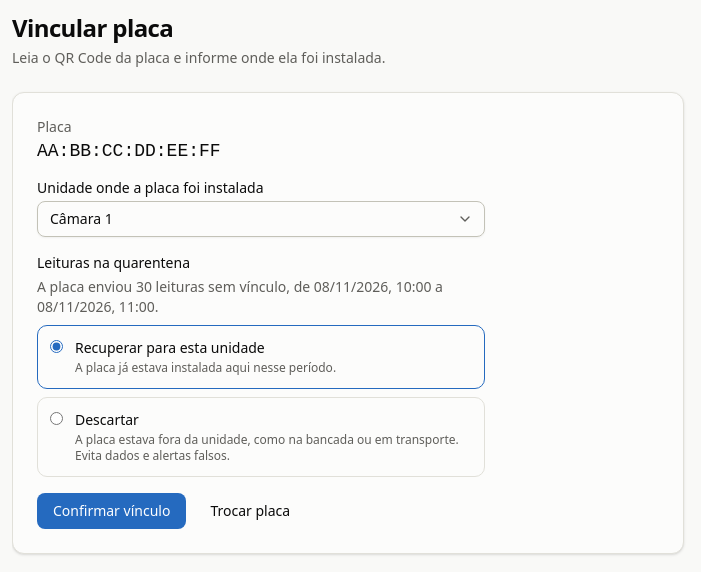
BindDevicePage › permite descartar a quarentena de uma placa que mediu fora da unidade
This screenshot has width=701, height=572.
Expected: the text "enviou 30 leituras sem vínculo" is shown, top-left (37, 277), bottom-right (485, 317)
Expected: the radio button labelled "Recuperar para esta unidade" is checked, top-left (50, 340), bottom-right (63, 353)
What coordinates should you click on to do the following:
click the radio button labelled "Descartar"
I would click on:
 (56, 418)
Its box is top-left (50, 412), bottom-right (63, 425).
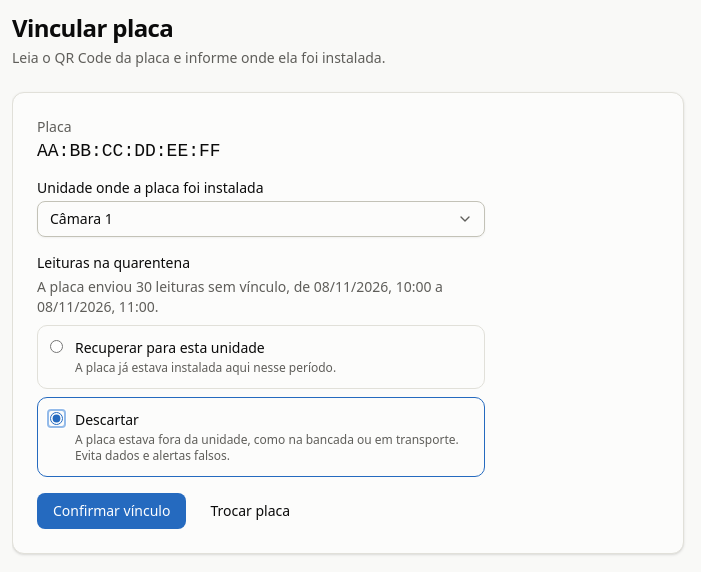
What coordinates should you click on to do the following:
click the button "Confirmar vínculo"
I would click on:
 (112, 511)
Its box is top-left (37, 493), bottom-right (186, 529).
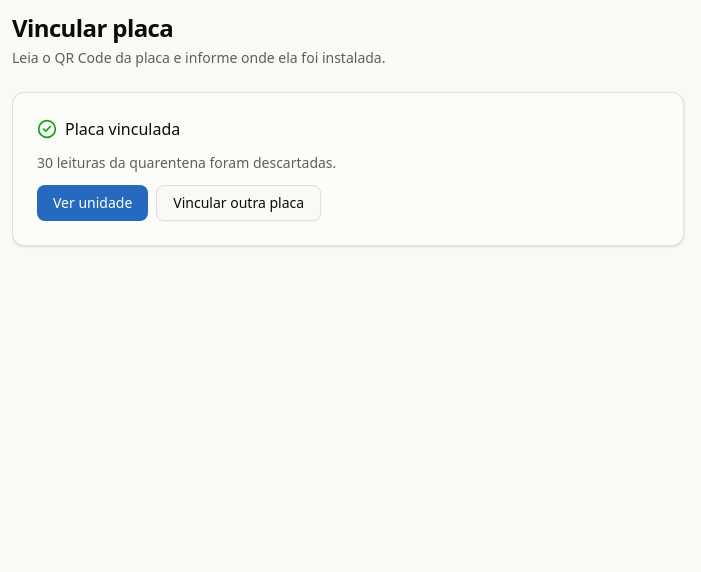
Expected: the text "30 leituras da quarentena foram descartadas." is shown, top-left (37, 153), bottom-right (336, 172)
